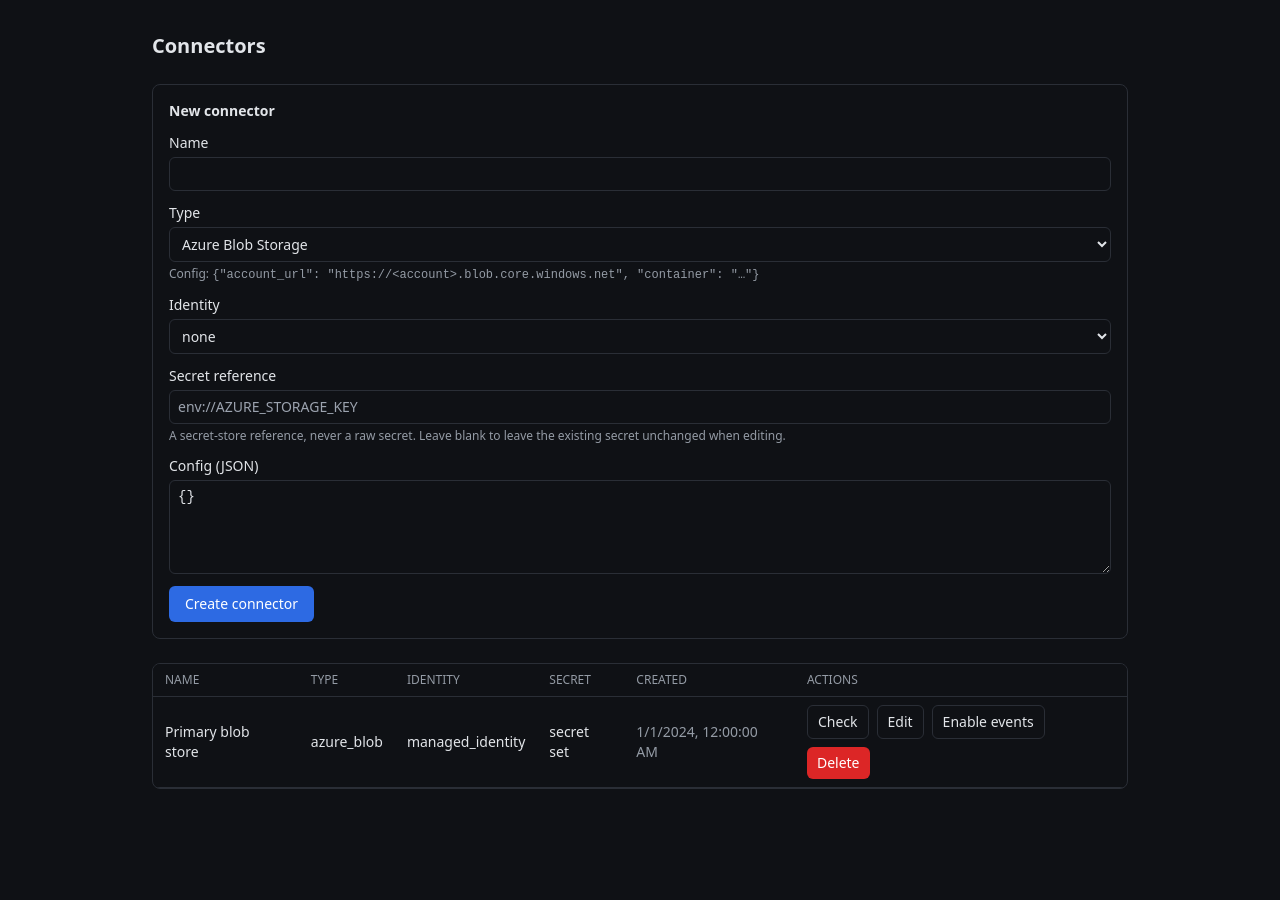
Scenario: ConnectorsPage › runs a check and shows the resulting messages
This screenshot has width=1280, height=900.
Click the button "Check": (838, 722) [807, 705, 868, 739]
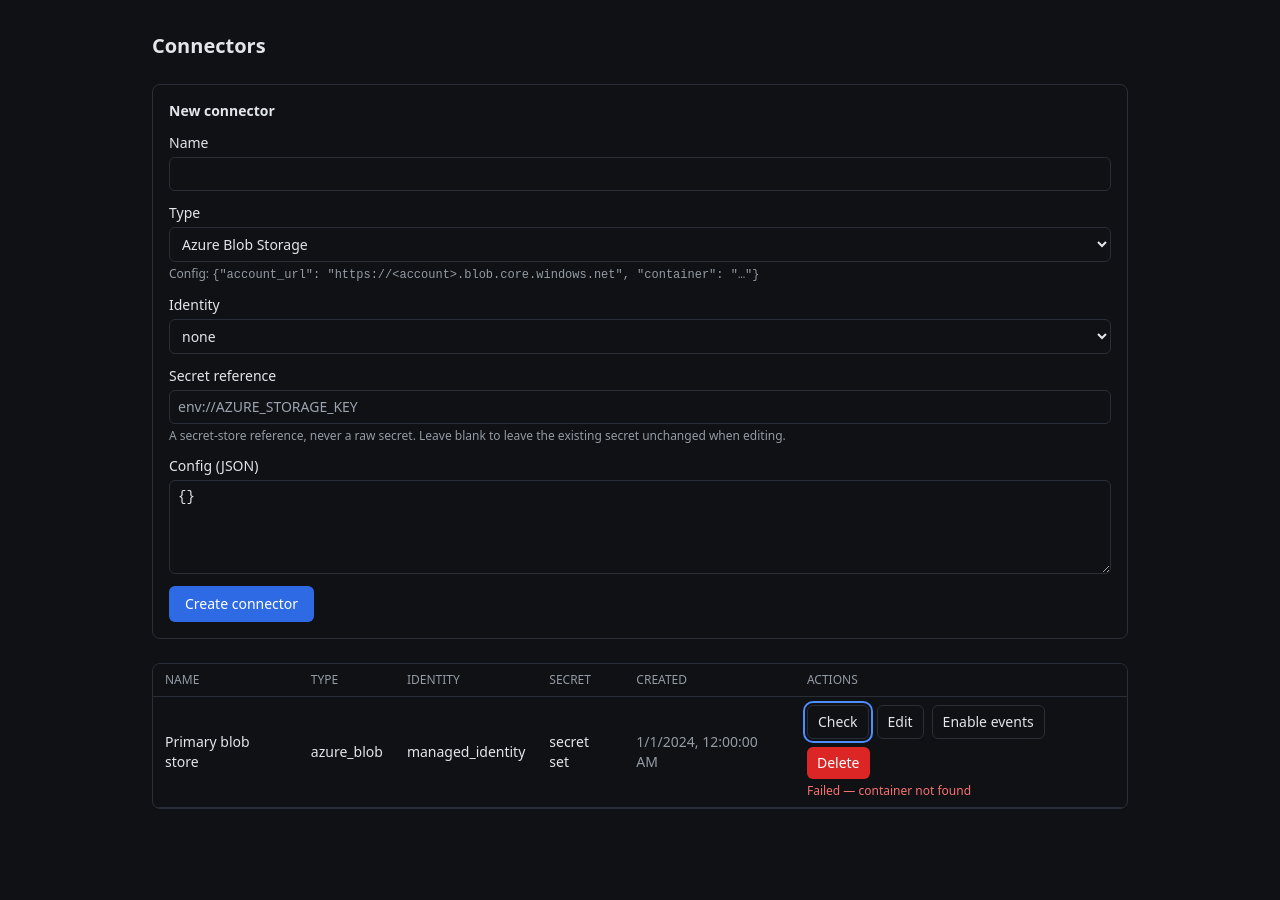
Expected: the text "Failed — container not found" is shown, [807, 782, 971, 799]
